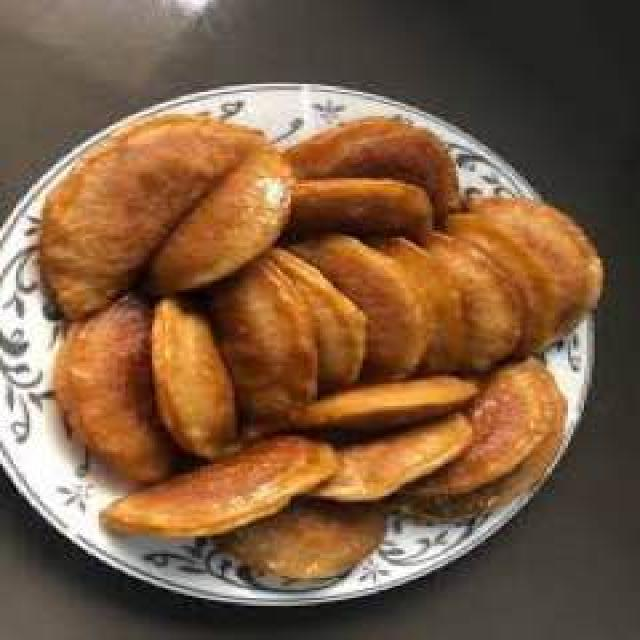ataif: (25, 112, 602, 589)
